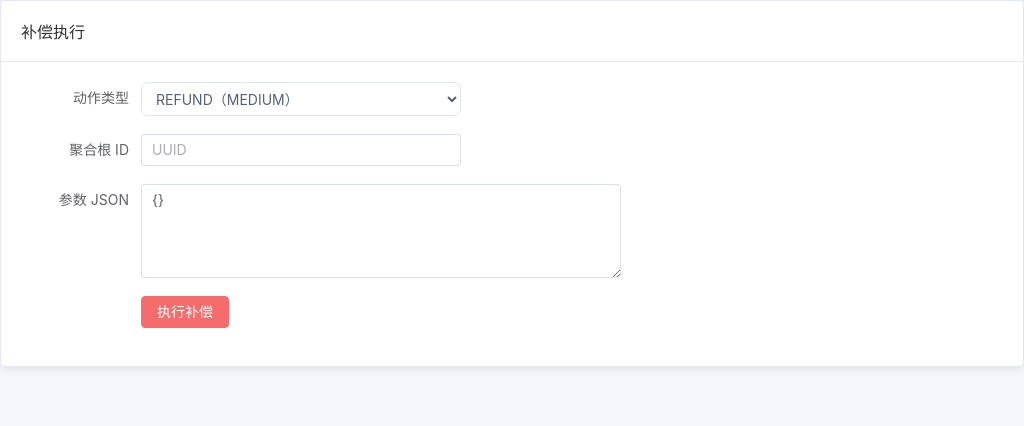
Test: CompensationExecute › 执行失败时显示错误
Type "11111111-1111-1111-1111-111111111111" into the field with test id "aggregate-id" at (301, 150), box x1=152 y1=135 x2=450 y2=165
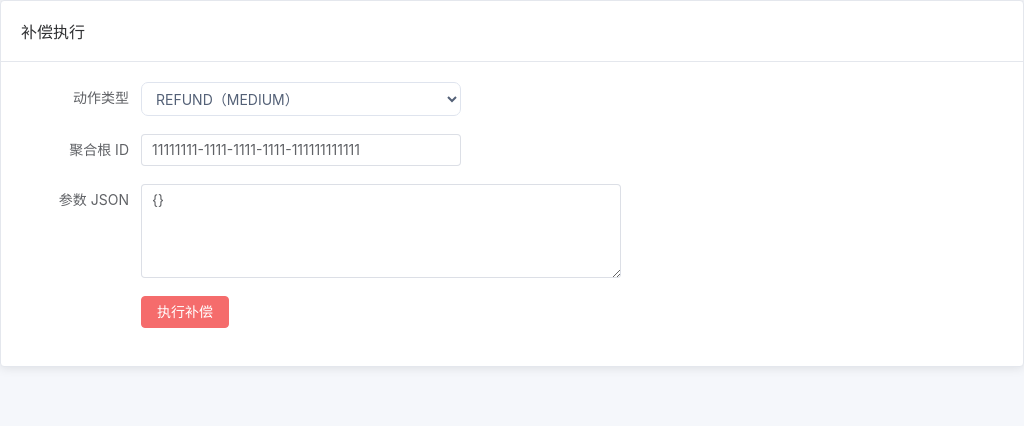
Click the button with test id "execute-btn" at (185, 312), box x1=141 y1=296 x2=229 y2=328
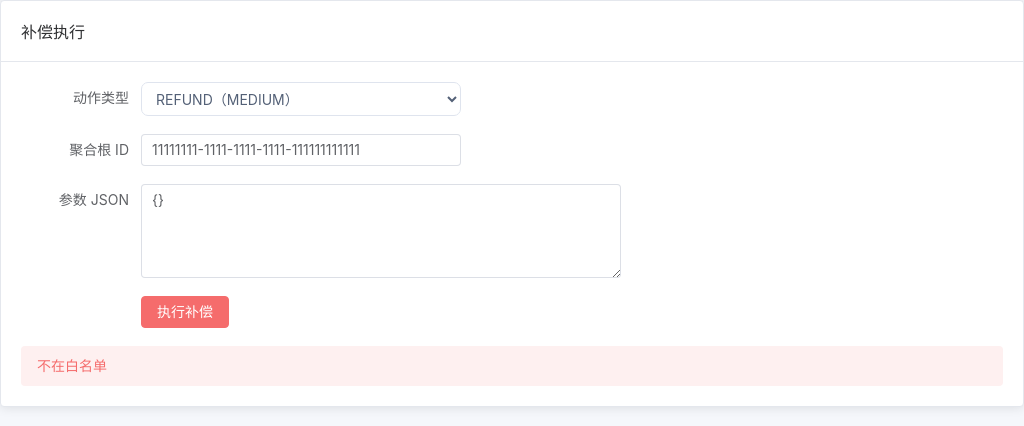
Expected: the text "不在白名单" is shown, x1=37 y1=354 x2=107 y2=378
